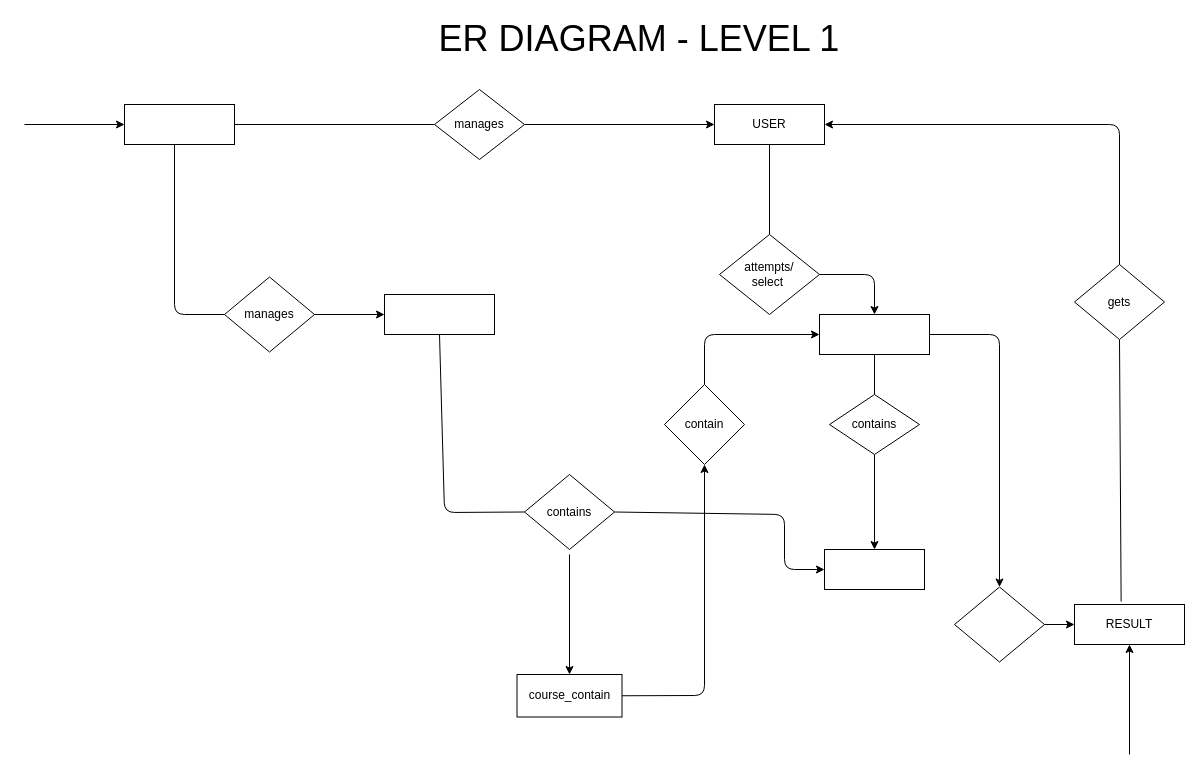
Image size: 1202x780. Some labels were removed from this diagram. Each missing label, with the centre of its shape:
"ADMIN" belongs at point 179,124.
"COURSE" belongs at point 439,314.
"EXAM" belongs at point 874,334.
"produces" belongs at point 999,624.
"QUESTION" belongs at point 874,569.
